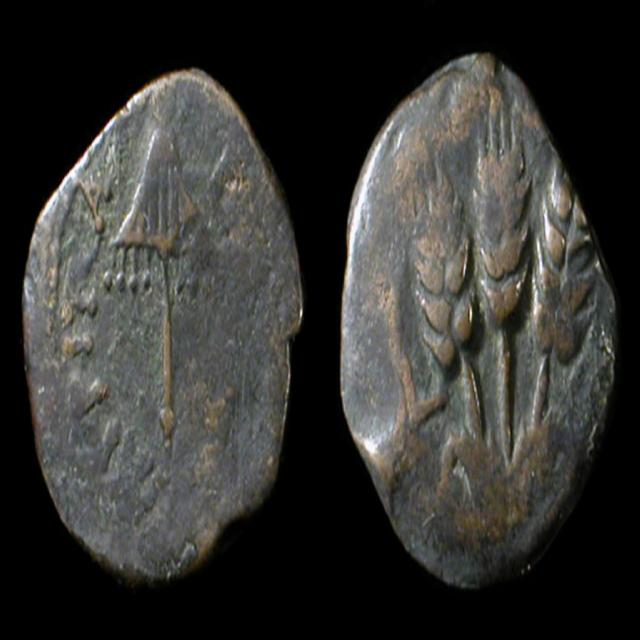Coin: (338, 45, 624, 591), (25, 67, 302, 578)
